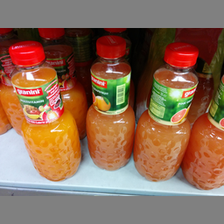juice: (8, 40, 83, 181), (134, 42, 199, 181), (85, 35, 136, 171), (181, 71, 224, 191)
